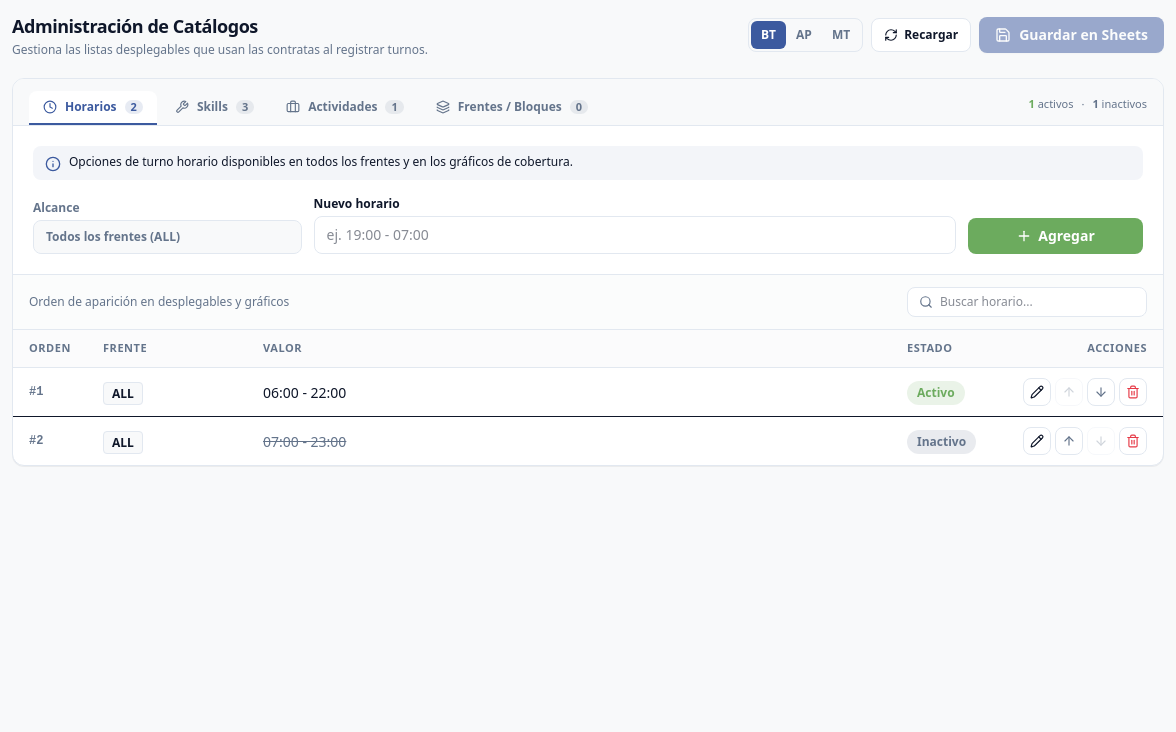
Test: AdminCatalogsTab › adds, edits inline, reorders within frente, and saves with ADMIN rol
Later steps or results of the test are not shown.
Expected: the text "07:00 - 23:00" is shown, [263,432,346,450]
Expected: the button "Inactivo" is shown, [907,430,976,454]
// Add a new HORARIO
Type "19:00 - 07:00" into the field labelled "Nuevo horario".
click(635, 235); type("19:00 - 07:00")  # box [314,216,956,254]
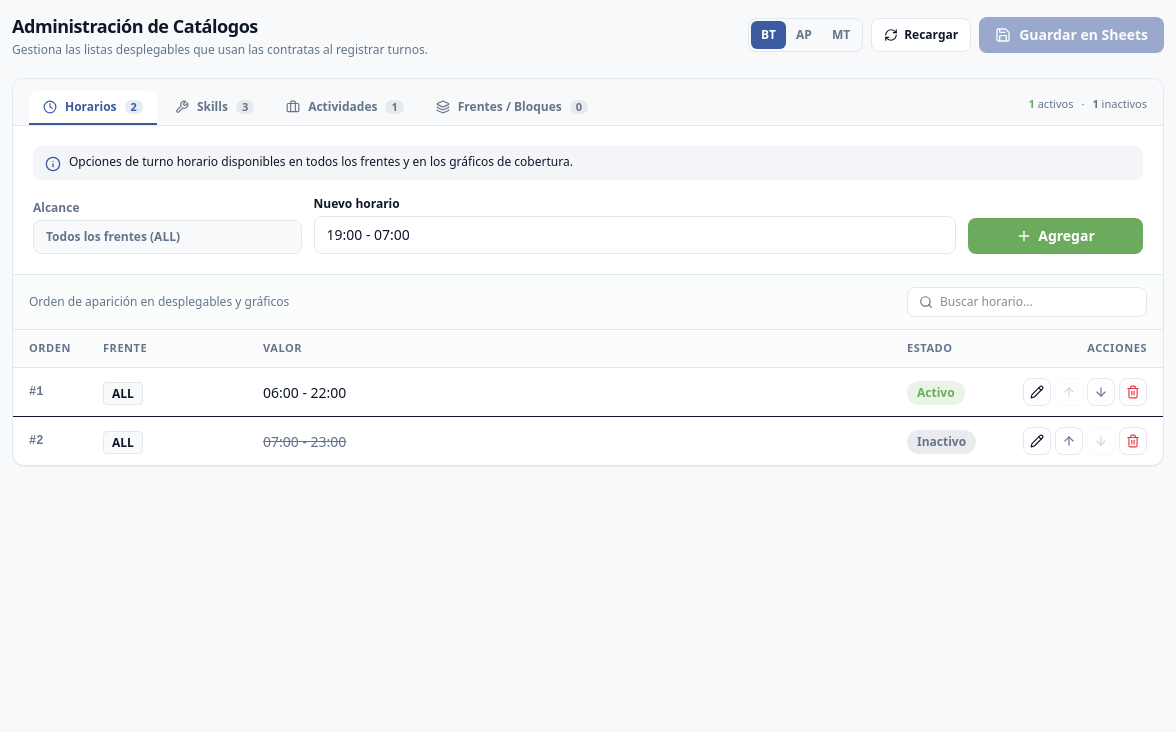
Click the button "Agregar".
click(1056, 236)  # box [968,218,1143,254]
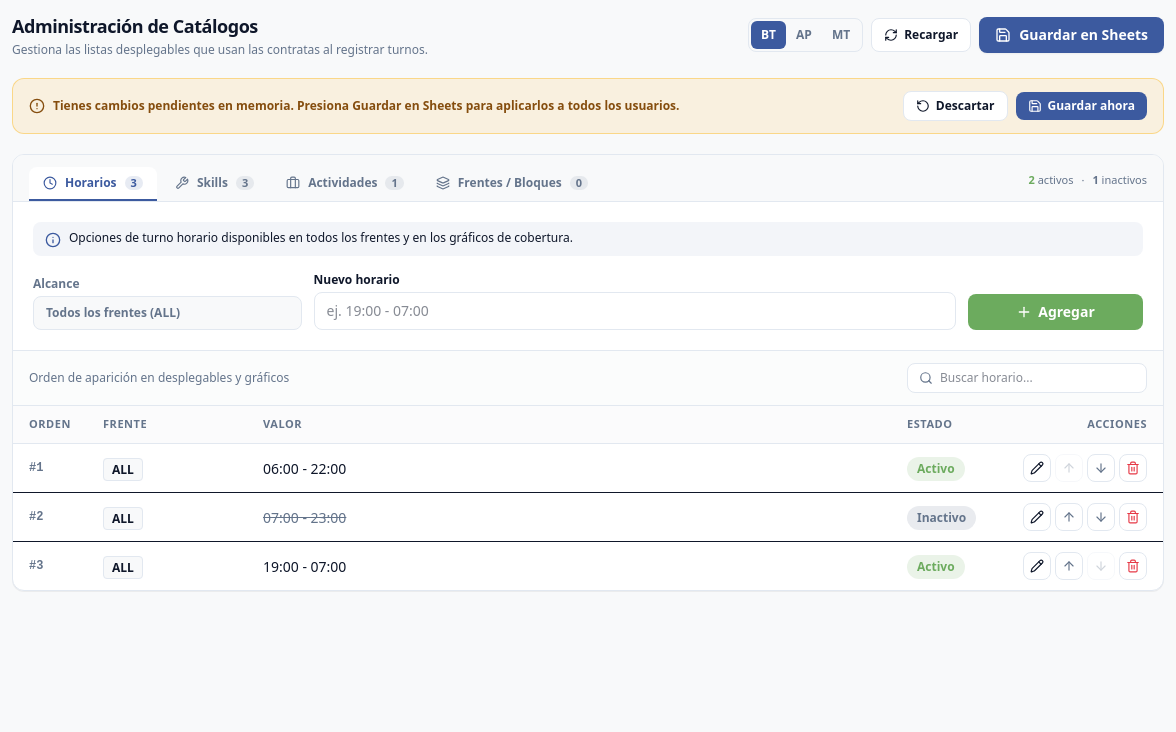
Result: the text "19:00 - 07:00" is shown at [263,556,346,576]
Result: the text "Tienes cambios pendientes en memoria" is shown at [53,97,352,114]
// Edit inline
Click the button named "Editar 19:00 - 07:00".
click(1037, 566)  # box [1023,552,1051,580]
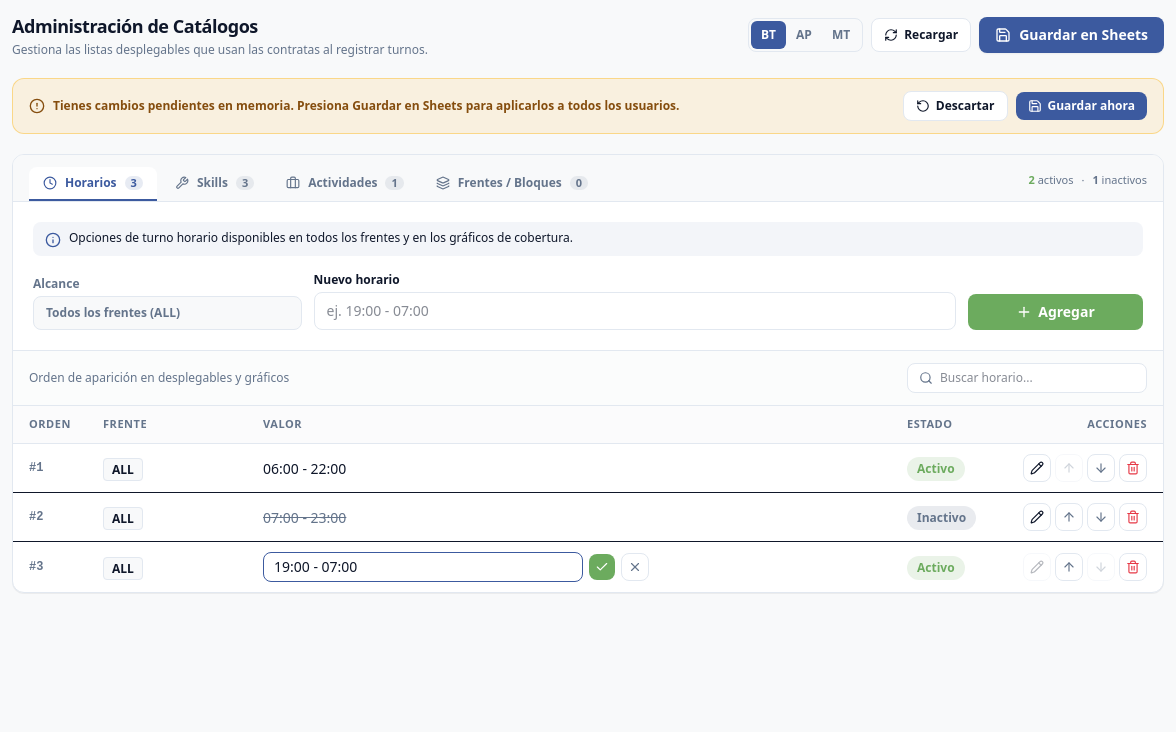
Replace the text in the field named "Editar 19:00 - 07:00" with "20:00 - 08:00" at x=423, y=566, box [263,552,583,582]
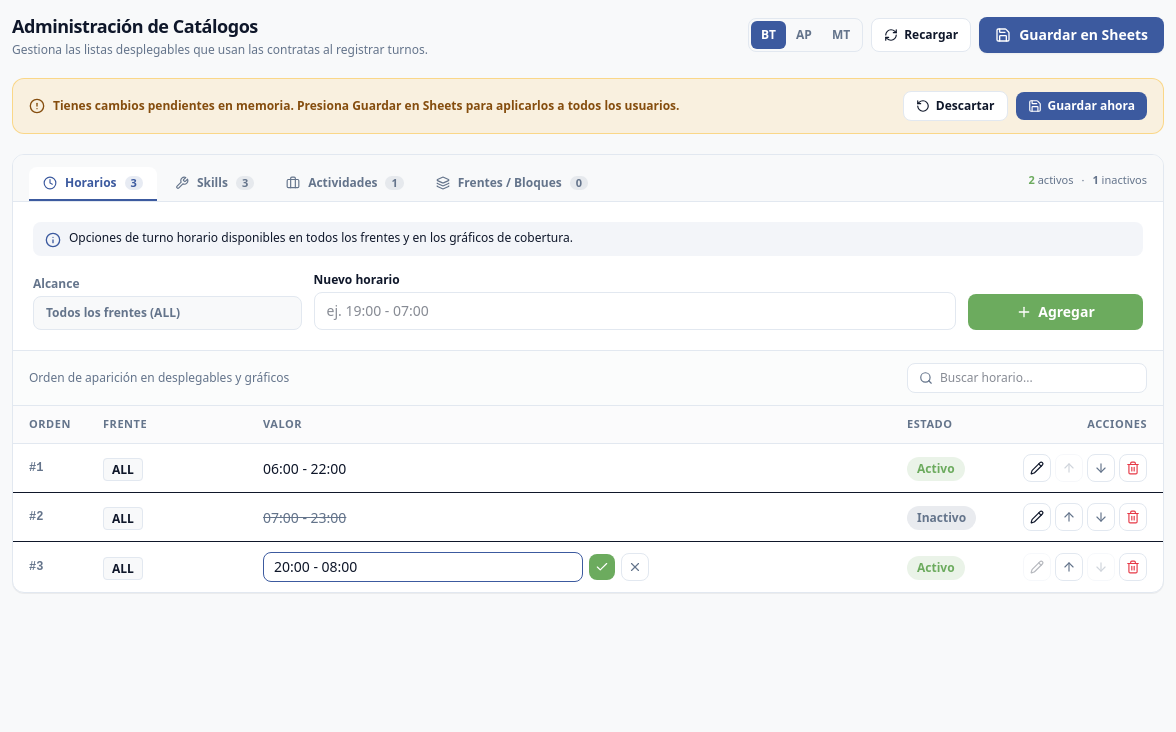
Click the button named "Confirmar edición".
click(602, 566)  # box [589,554,615,580]
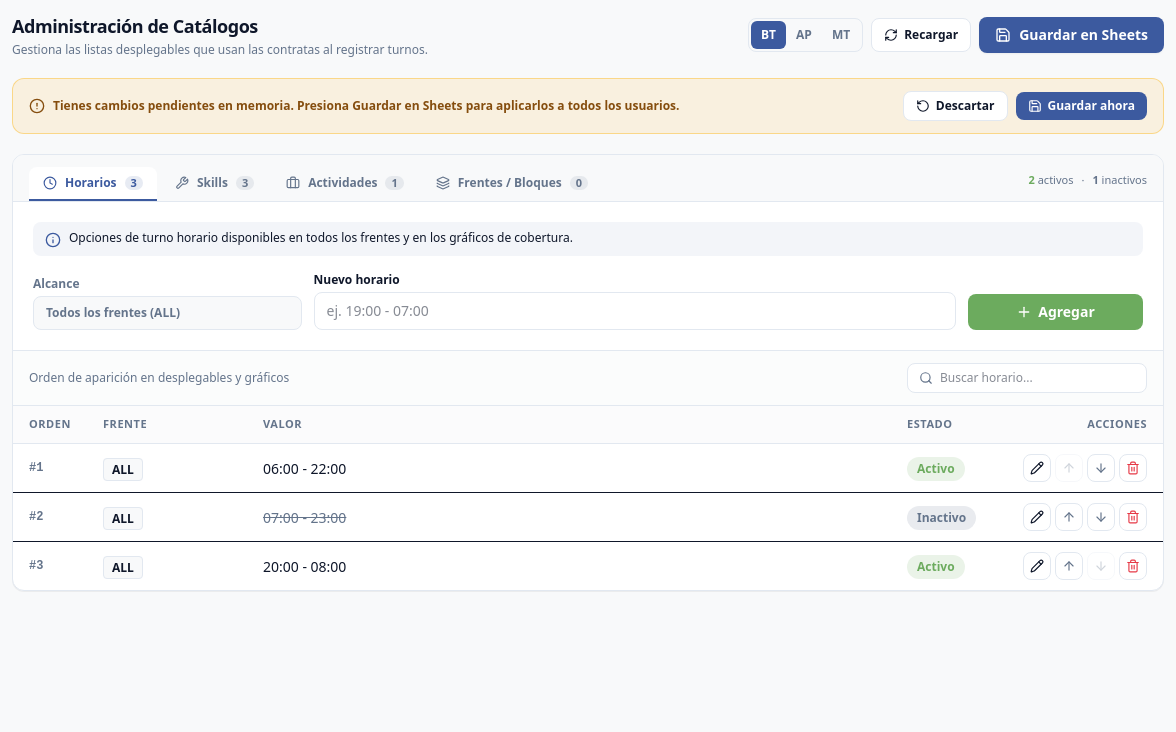
Result: the text "20:00 - 08:00" is shown at [263,556,346,576]
